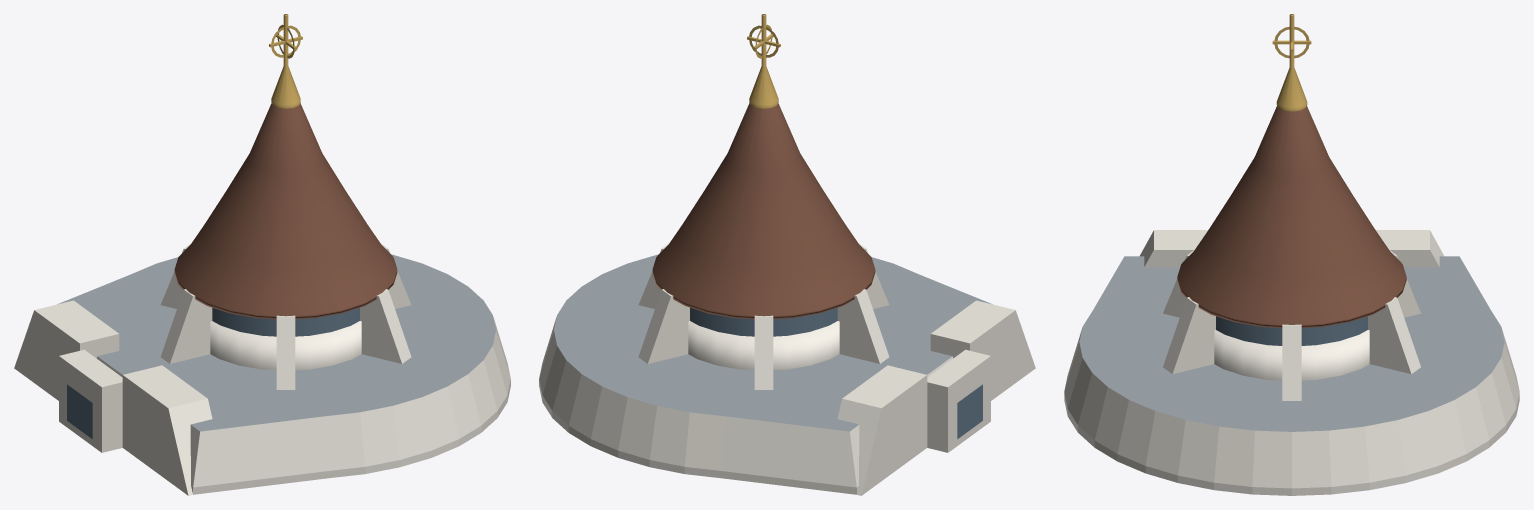
Rendered from mia-ermita-de-la-caridad.glb.
3 renders of one model, left to right at view 1: azimuth 30°, elevation 25°; view 2: azimuth 150°, elevation 25°; view 3: azimuth 270°, elevation 25°, orthographic. The views are drawn at different scales.
Parts seen in each view (by area): view 1: Ermita de la Caridad; view 2: Ermita de la Caridad; view 3: Ermita de la Caridad.
Boxes of the visible parts, x1,y1,x2,y2 form: Ermita de la Caridad: (14, 14, 510, 495); Ermita de la Caridad: (539, 14, 1035, 495); Ermita de la Caridad: (1064, 14, 1519, 495).
Bounding box in the file's own units: 34.55 × 30.6 × 33.
